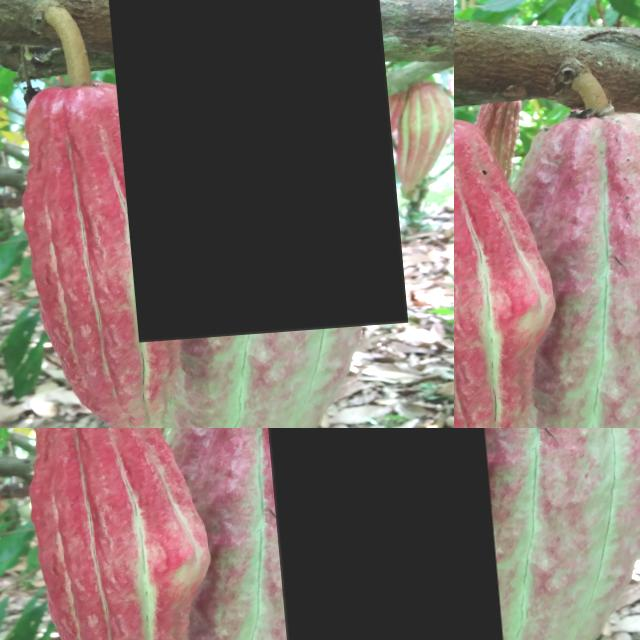Monilia: (254, 428, 454, 640), (454, 428, 492, 640)
Sana: (102, 0, 398, 345), (463, 428, 640, 640)
